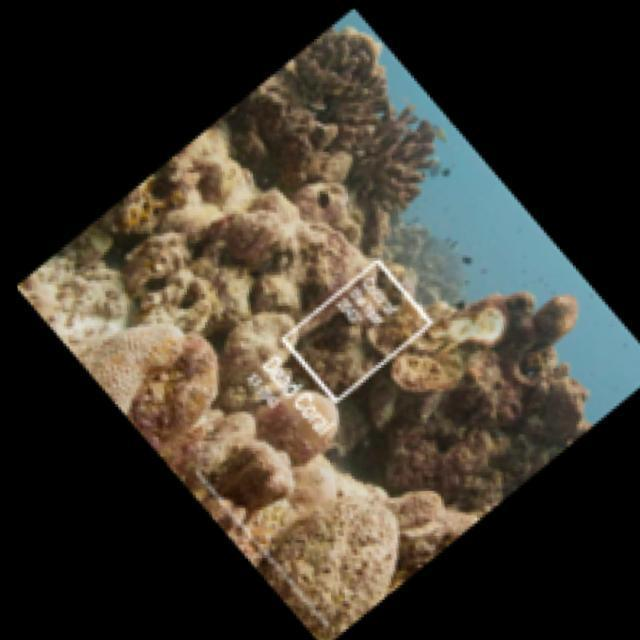Dead Coral: (218, 16, 452, 225), (437, 259, 600, 443), (71, 286, 234, 447), (250, 475, 417, 622)
